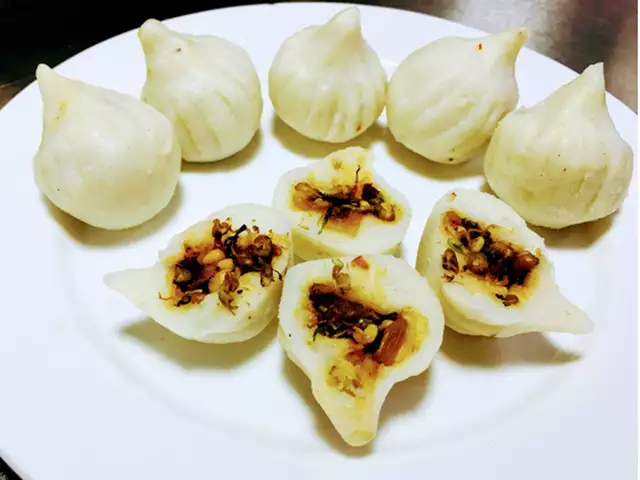modak: (25, 46, 180, 229), (127, 20, 275, 168), (508, 57, 628, 237), (270, 3, 392, 153), (379, 28, 523, 147)
